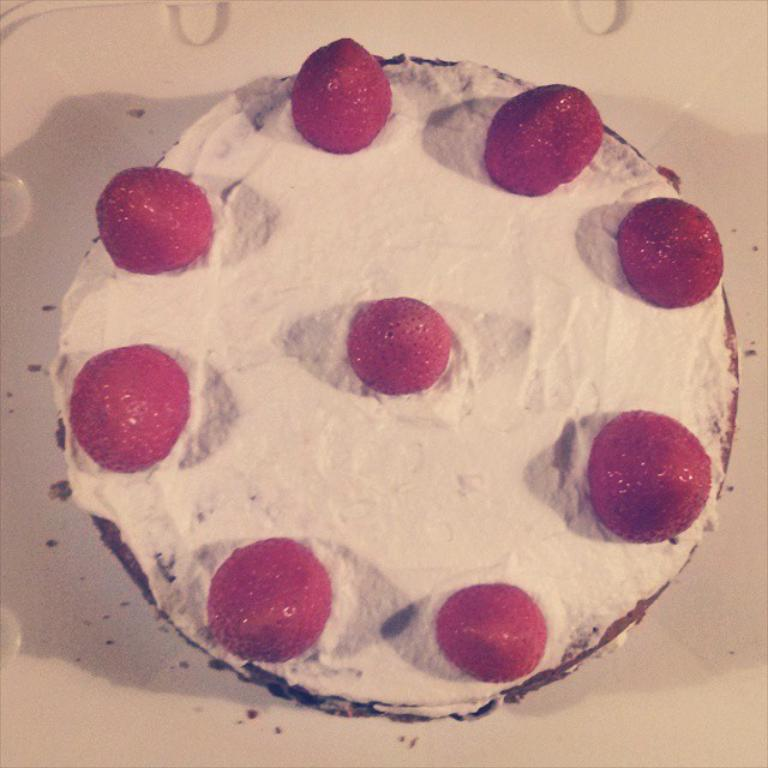cake: (50, 35, 726, 715)
